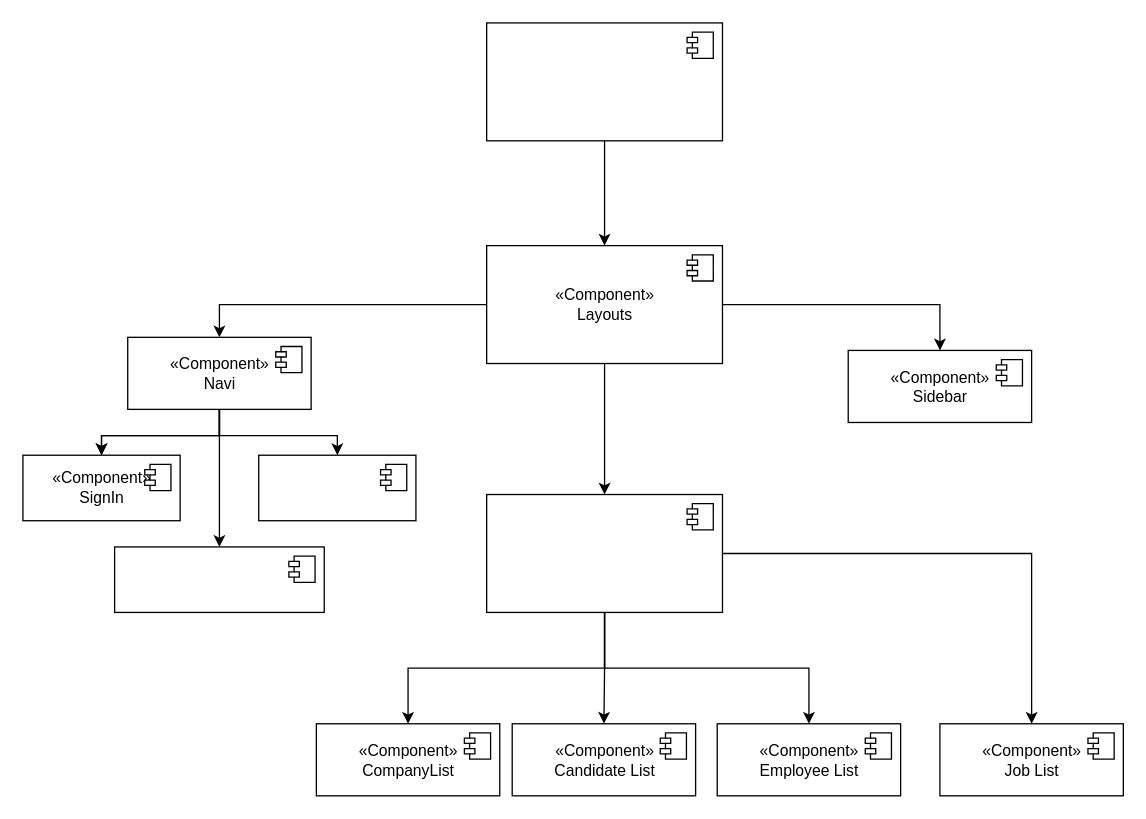
Image size: 1146x819. Some labels were removed from this diagram. Each missing label, with the centre of its shape:
«Component» App: the point at 603,81
«Component» Dashboard: the point at 603,552
«Component» JobPosting List: the point at 218,579
«Component» SignUp: the point at 336,487
